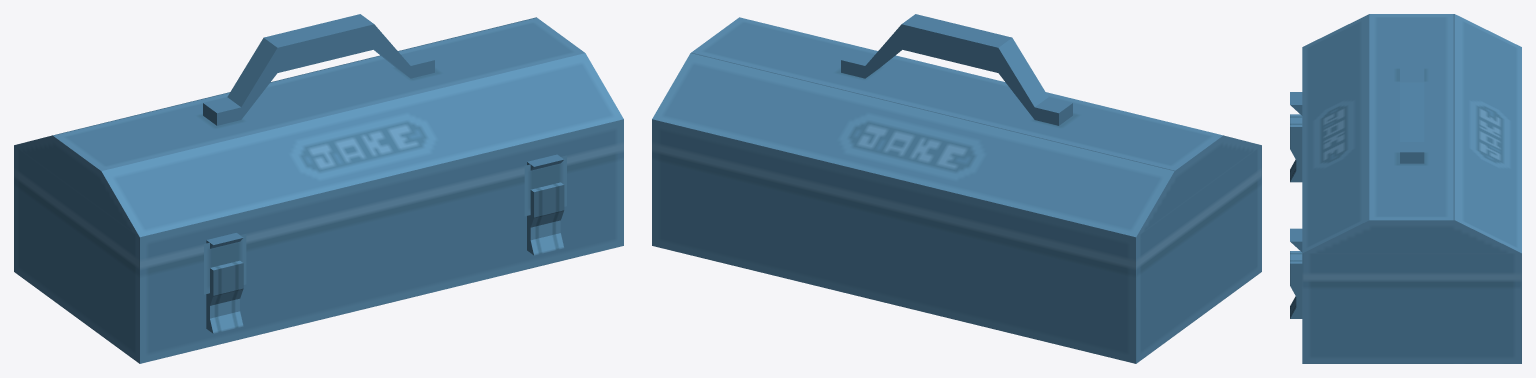
3 renders of one model, left to right at view 1: azimuth 30°, elevation 25°; view 2: azimuth 150°, elevation 25°; view 3: azimuth 270°, elevation 25°, orthographic. The views are drawn at different scales.
Parts seen in each view (by area): view 1: part_0; view 2: part_0; view 3: part_0.
Part boxes in pixels (x1=…): part_0: x1=14, y1=14, x2=623, y2=363; part_0: x1=652, y1=14, x2=1261, y2=363; part_0: x1=1290, y1=14, x2=1521, y2=363.
Bounding box in the file's own units: 40 × 18 × 19.
1 material, 1 textured.
